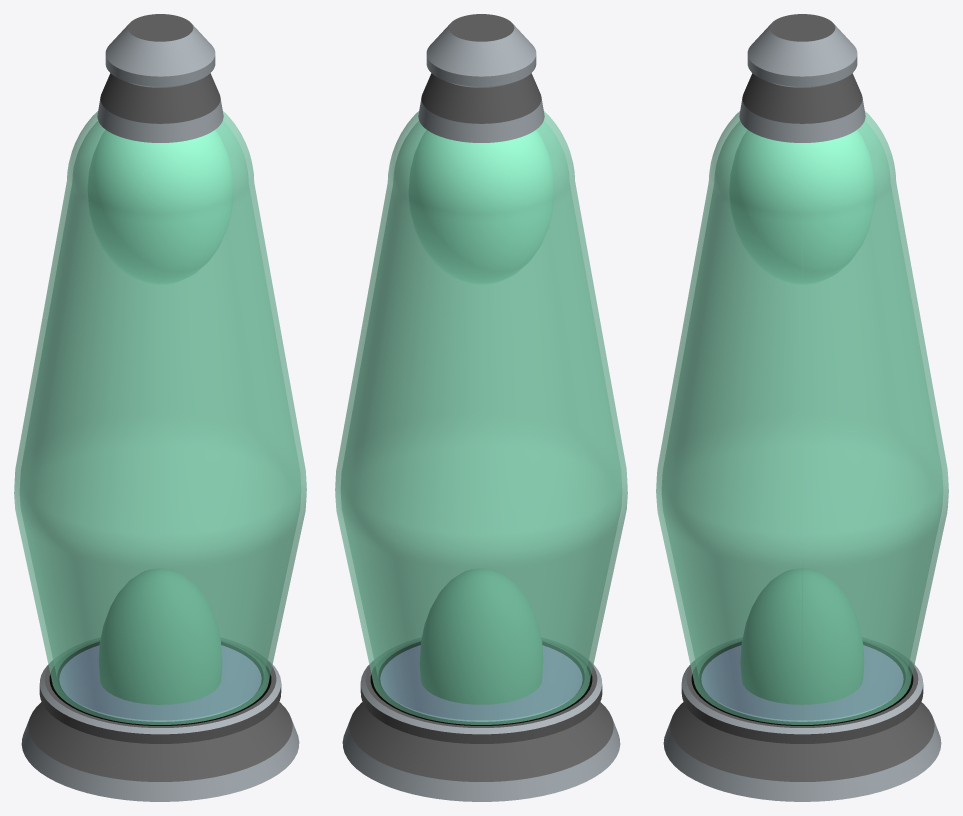
File: Lavalamp6.fbx
3 renders of one model, left to right at view 1: azimuth 30°, elevation 25°; view 2: azimuth 150°, elevation 25°; view 3: azimuth 270°, elevation 25°, orthographic.
Parts seen in each view (by area): view 1: _glass6, __base, lava_top, lava_bottom, __top; view 2: _glass6, __base, lava_top, lava_bottom, __top; view 3: _glass6, __base, lava_top, lava_bottom, __top.
Boxes of the visible parts, <box> form: _glass6: <box>14,111,306,724</box>; __base: <box>21,641,299,801</box>; lava_top: <box>87,130,233,284</box>; lava_bottom: <box>99,568,221,704</box>; __top: <box>97,14,223,142</box>; _glass6: <box>335,111,627,724</box>; __base: <box>342,641,620,801</box>; lava_top: <box>409,130,554,284</box>; lava_bottom: <box>420,568,542,704</box>; __top: <box>418,14,544,142</box>; _glass6: <box>656,111,948,724</box>; __base: <box>663,641,941,801</box>; lava_top: <box>729,130,875,284</box>; lava_bottom: <box>740,568,863,704</box>; __top: <box>739,14,865,142</box>.
Size of the model in its own units: 0.887 by 2.42 by 0.887.
